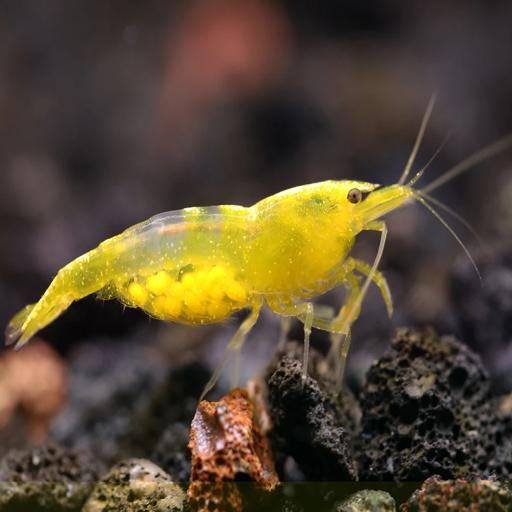Shrimp: (2, 98, 445, 396)
